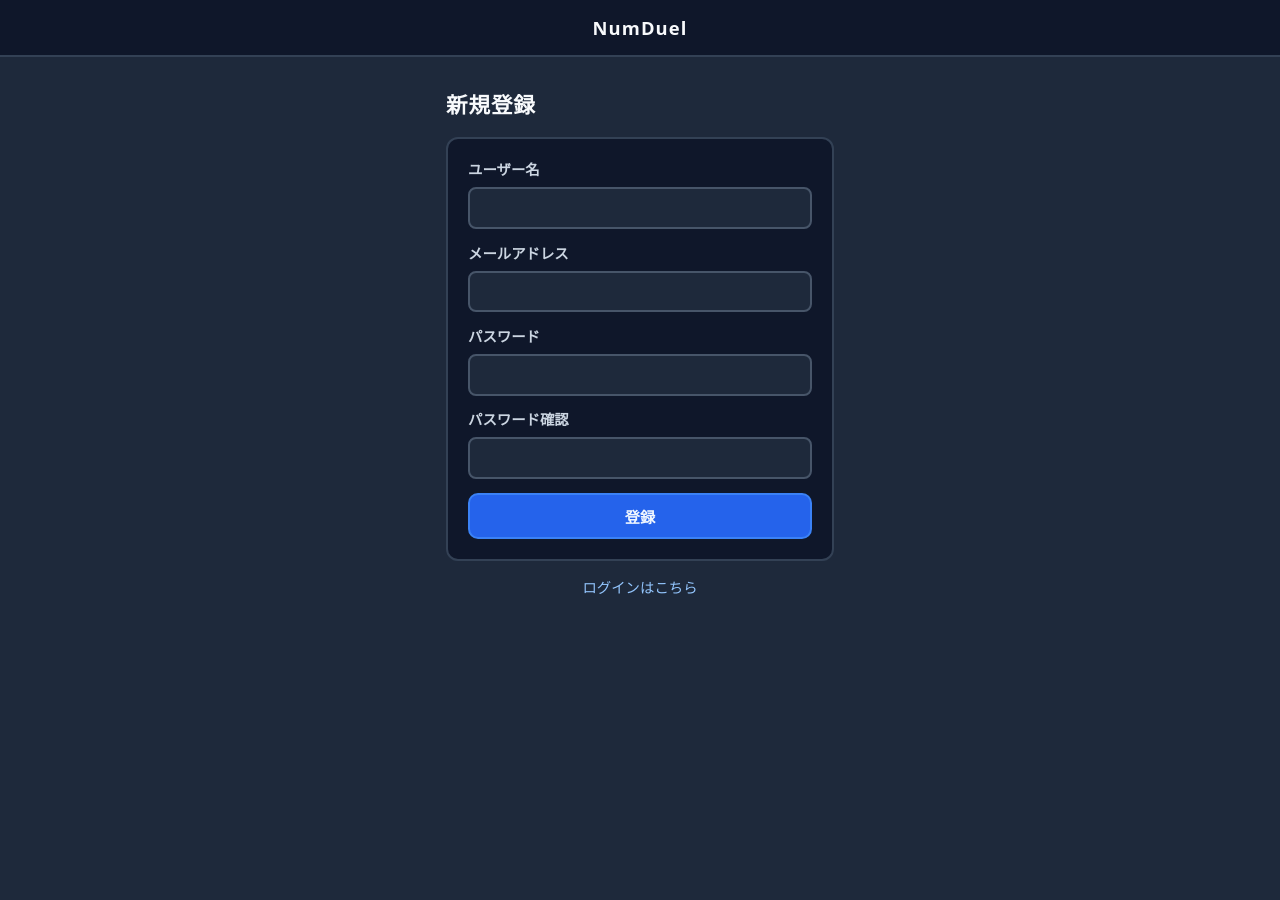
it: RegisterPage › shows validation error for short username
Type "alice" into the field labelled "ユーザー名" at {"x": 640, "y": 208}, box [468,187,812,229]
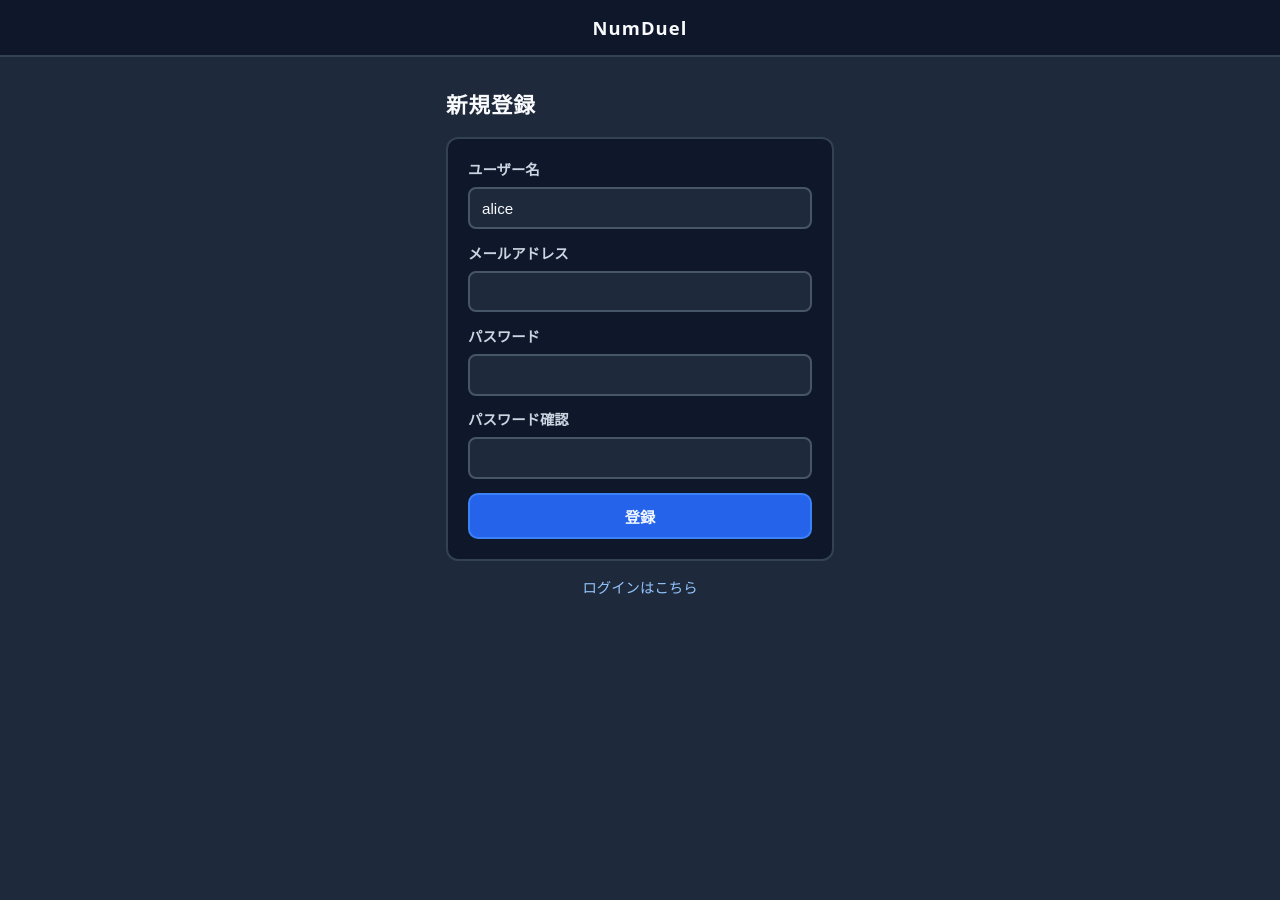
Type "a@test.local" into the field labelled "メールアドレス" at {"x": 640, "y": 292}, box [468,271,812,312]
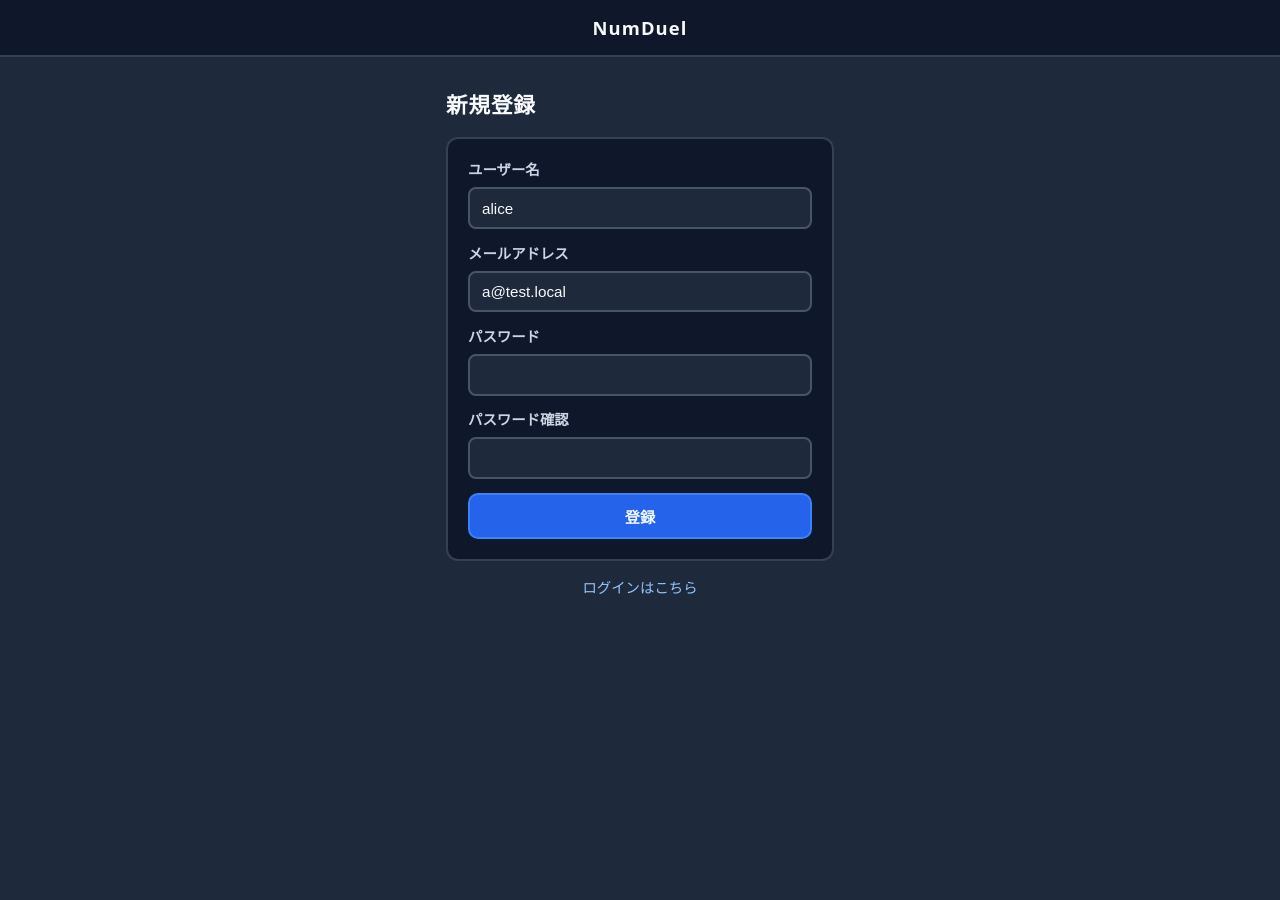
Type "password123" into the password field labelled "パスワード" at {"x": 640, "y": 375}, box [468,354,812,396]
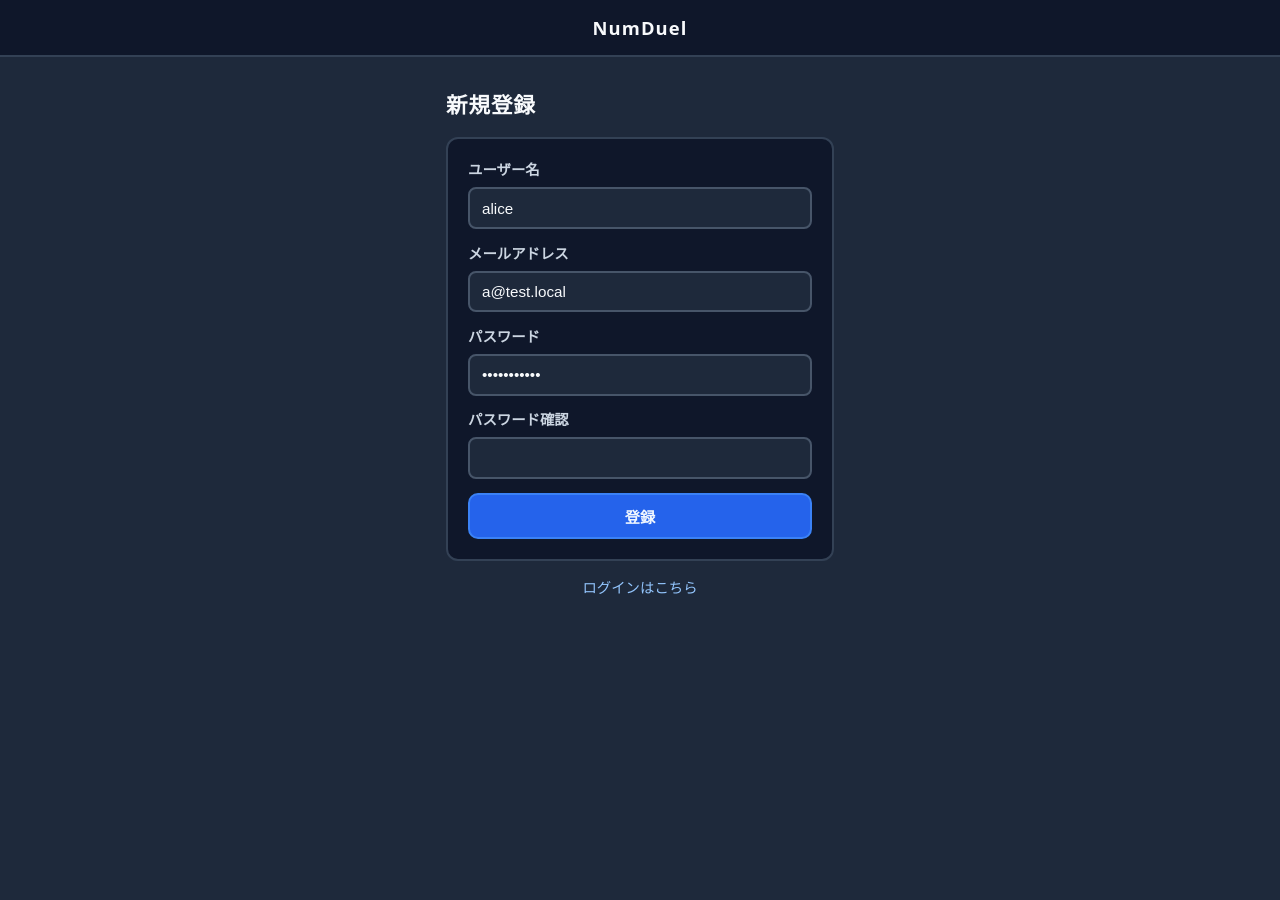
Type "password123" into the password field labelled "パスワード確認" at {"x": 640, "y": 458}, box [468,437,812,479]
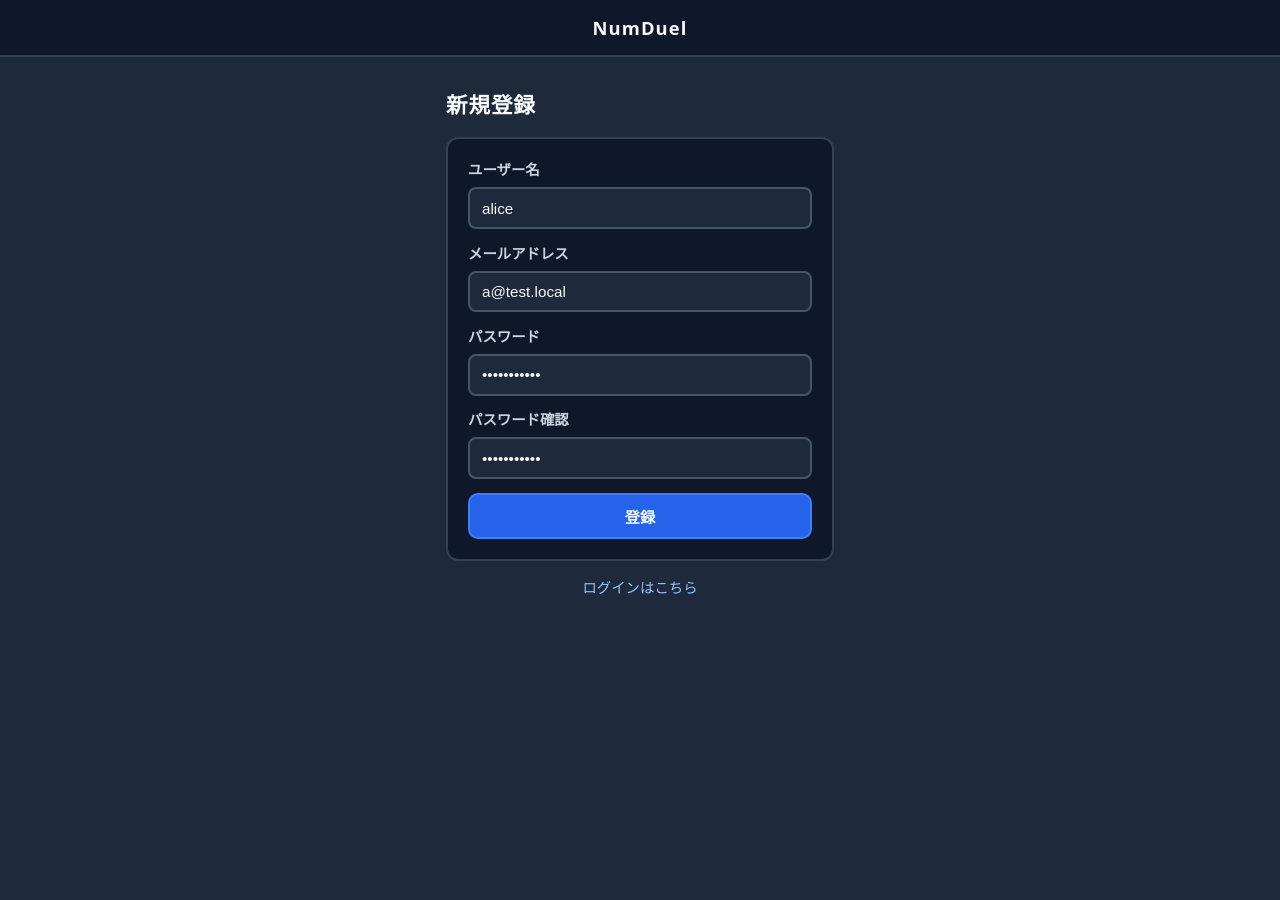
Replace the text in the field labelled "ユーザー名" with "ab" at {"x": 640, "y": 208}, box [468,187,812,229]
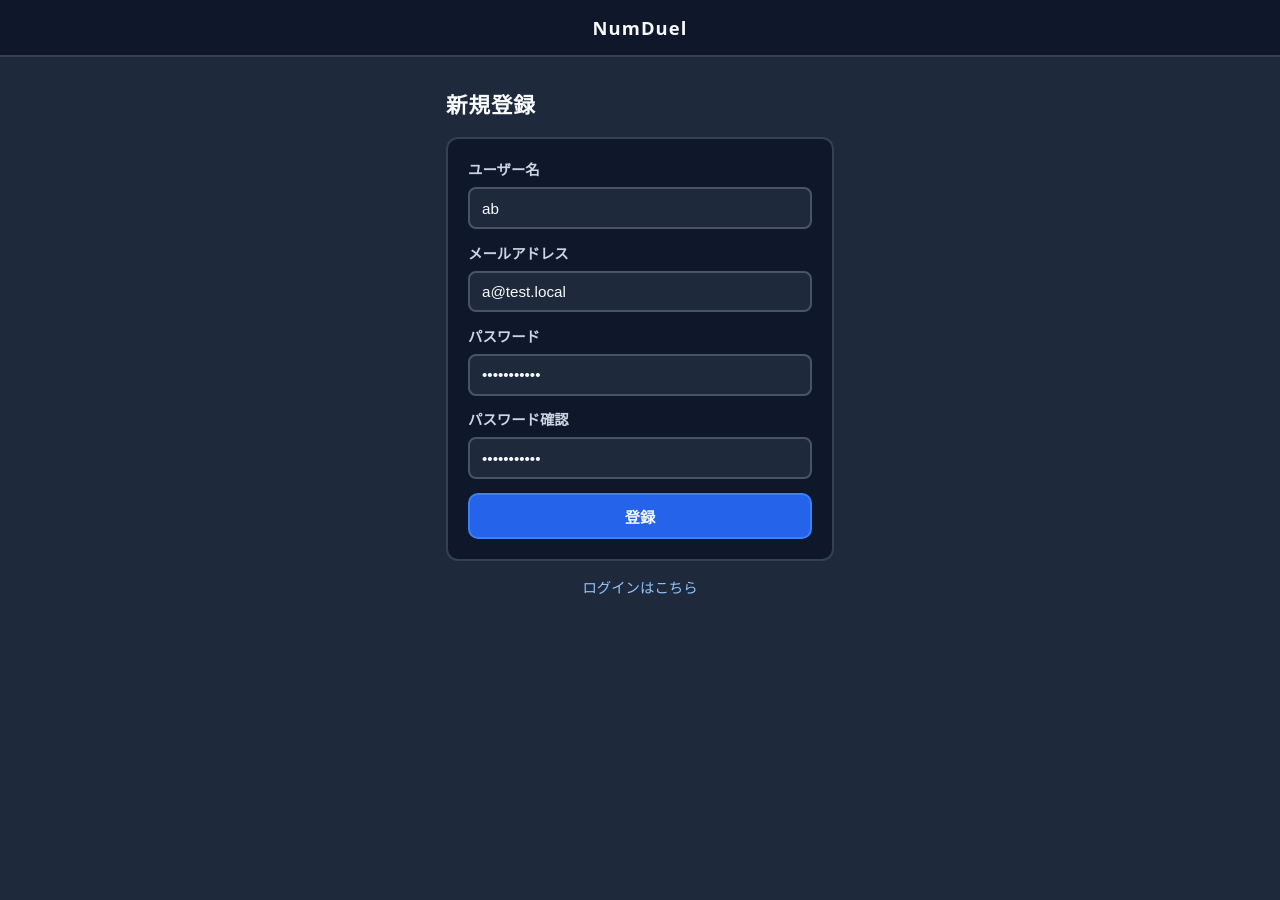
Click the button "登録" at {"x": 640, "y": 516}, box [468,493,812,540]
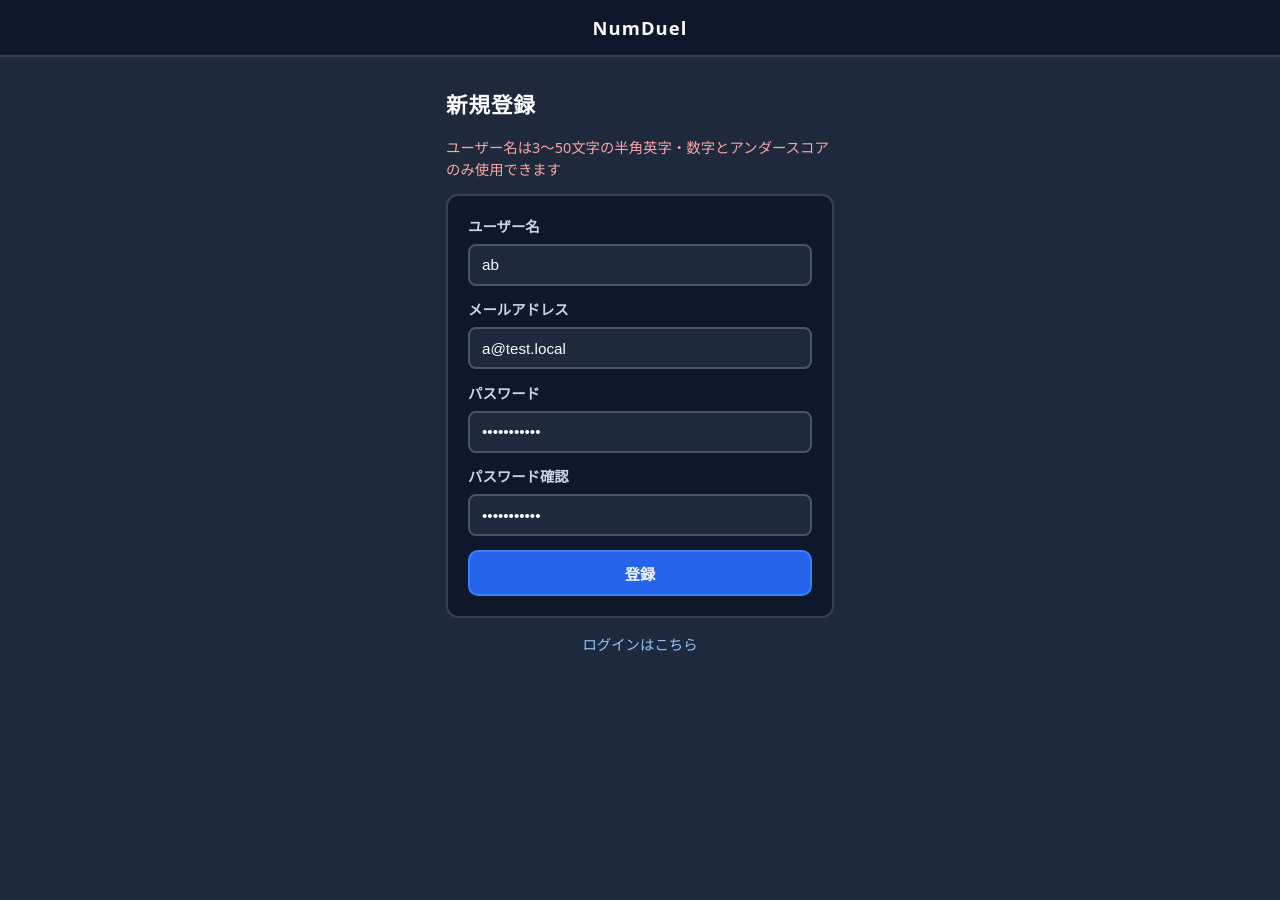
Result: the text "ユーザー名は3〜50文字の半角英字・数字とアンダースコアのみ使用できます" is shown at [446,137,834,180]
